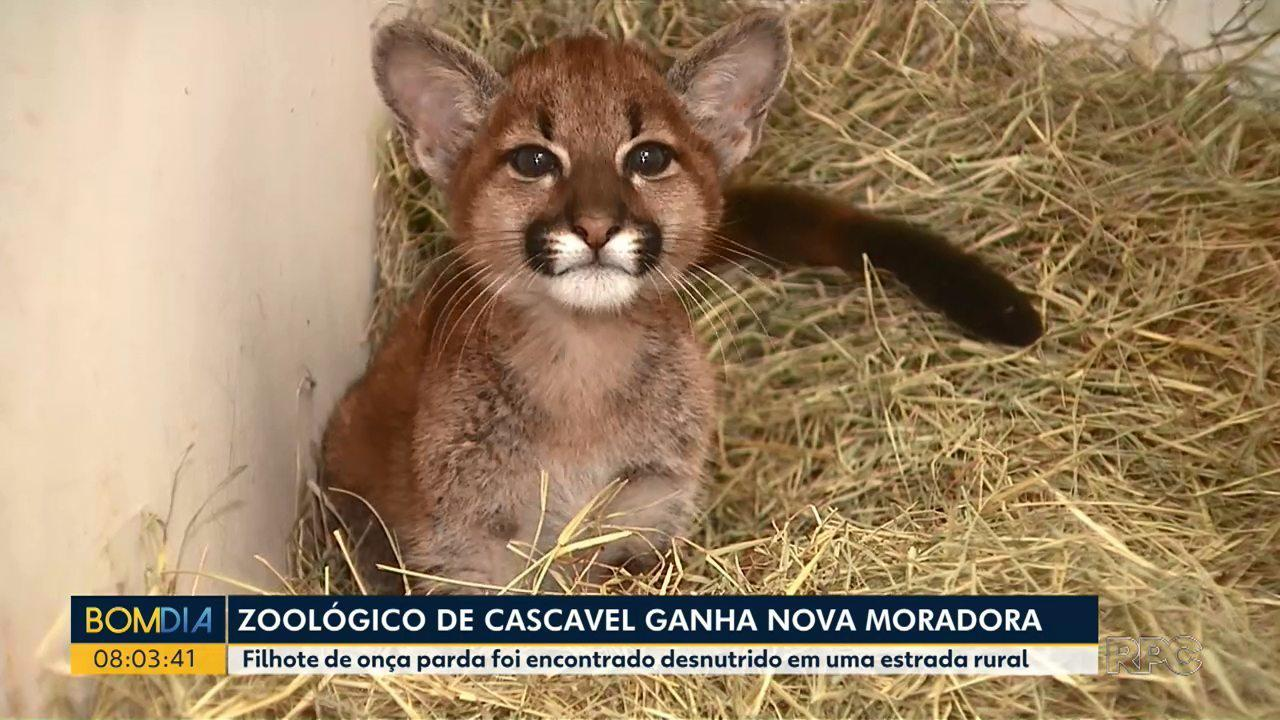OncaParda: (284, 8, 1052, 581)
